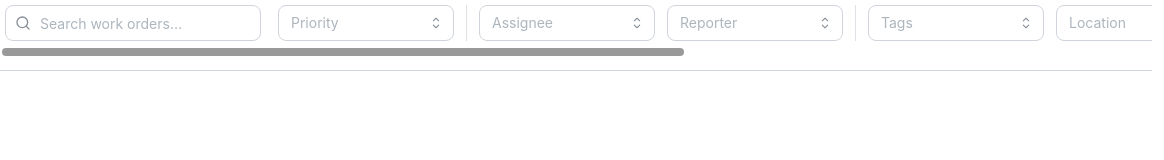
FilterBar › marks the current user with "(you)" in the assignee picker options
The image size is (1164, 160).
Click the dropdown labelled "Assignee" at x=556, y=23, box x1=492 y1=12 x2=620 y2=34
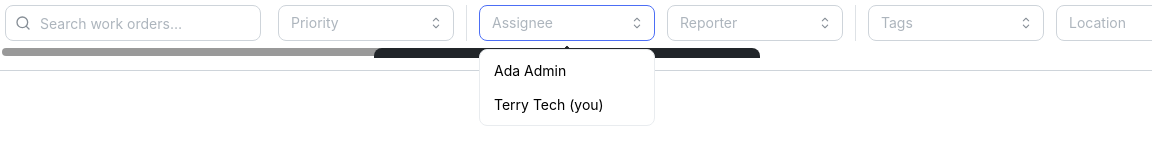
Now the option "Ada Admin" is shown, box x1=494 y1=62 x2=566 y2=79
